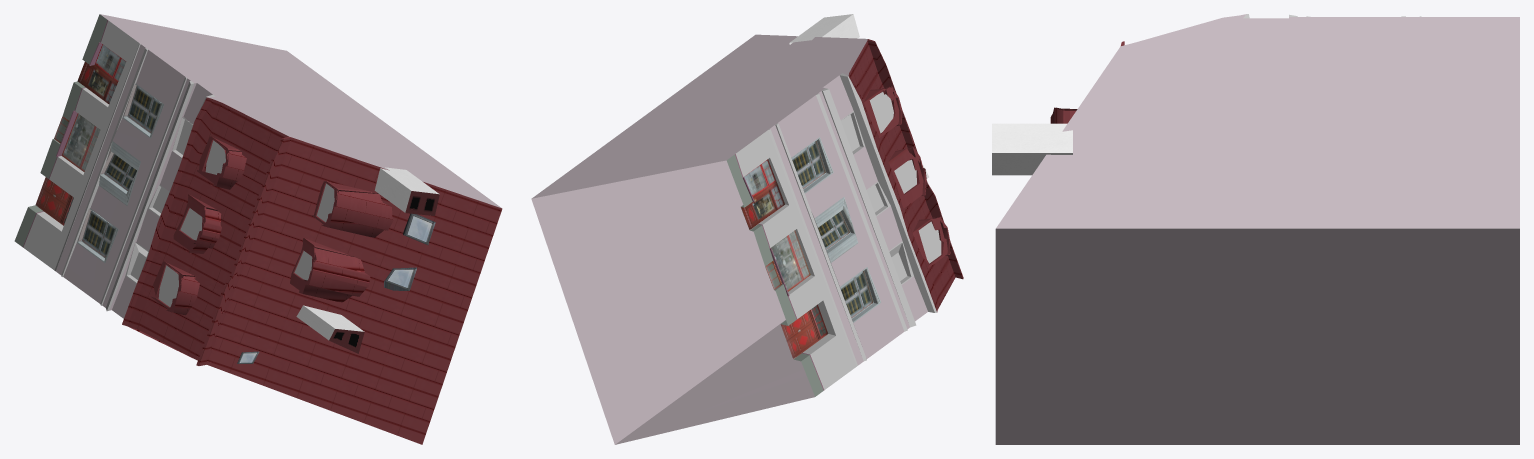
The model's file is Pikk_38-origo.obj.
The picture shows the model from 3 angles, left to right: view 1: azimuth 30°, elevation 25°; view 2: azimuth 150°, elevation 25°; view 3: azimuth 270°, elevation 25°; orthographic projection. The views are drawn at different scales.
Parts seen in each view (by area): view 1: Pikk_38; view 2: Pikk_38; view 3: Pikk_38.
Part boxes in pixels (x1,y1,x2,y2): Pikk_38: (14,14,502,444); Pikk_38: (531,14,963,444); Pikk_38: (992,14,1519,444).
Size of the model in its own units: 14.06 by 14.5 by 19.04.
